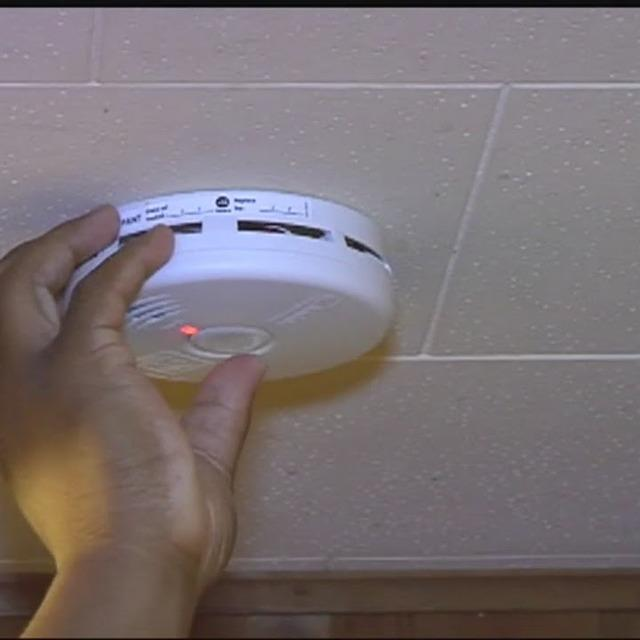Smoke-Detector: (158, 194, 402, 362)
